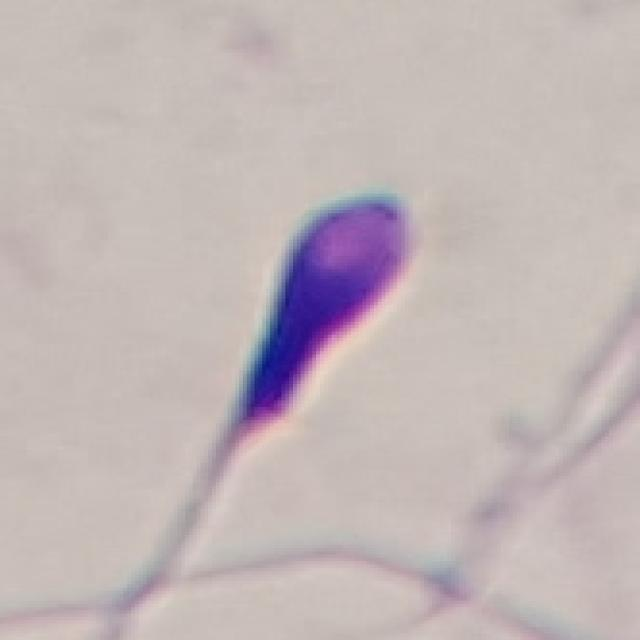abnormal sperm: (164, 157, 467, 596)
